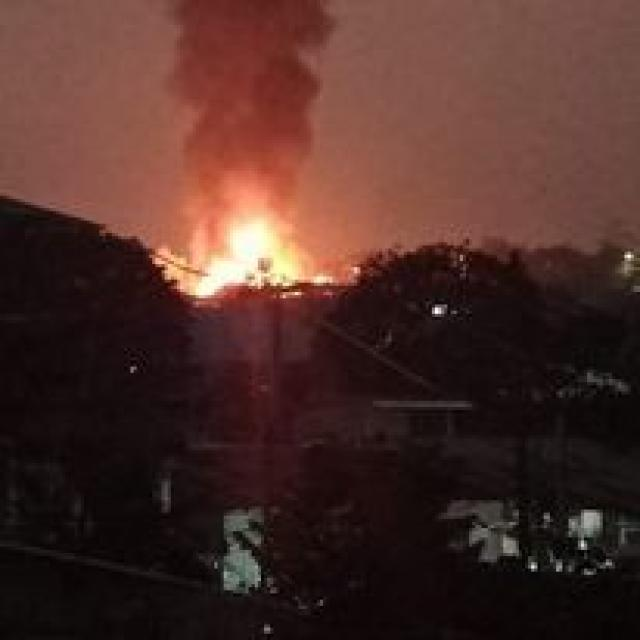Fire: (168, 202, 314, 304)
Smoke: (155, 0, 320, 199)
